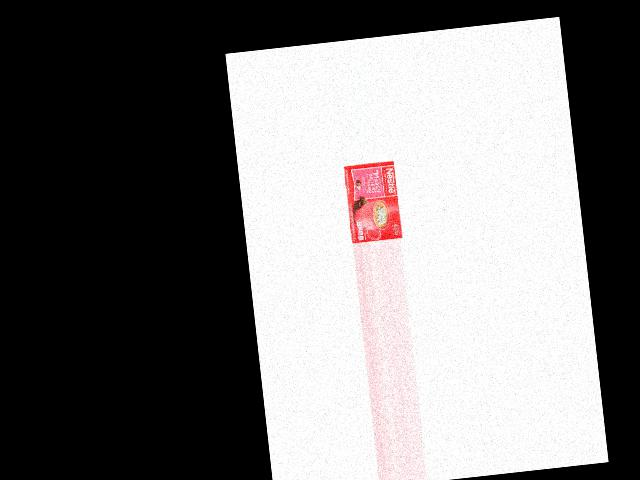chocolate: (340, 162, 400, 244)
